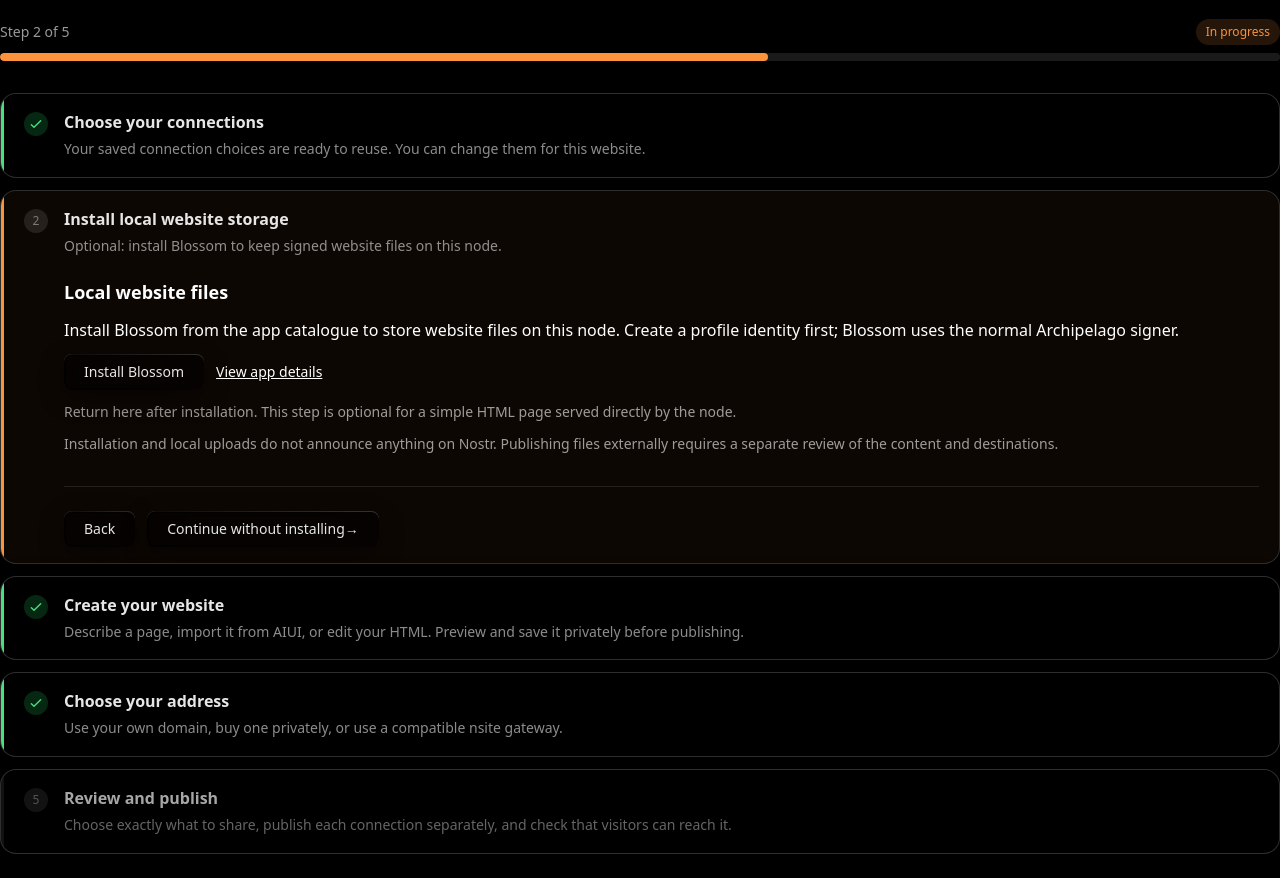
Test case: publishing setup › checks public HTTPS only on request and clears verification when the domain changes
(page scrolled)
Step 1. Click the button that starts with "Choose your address" → (147, 701), box [24,689,1259,740]
(page scrolled)
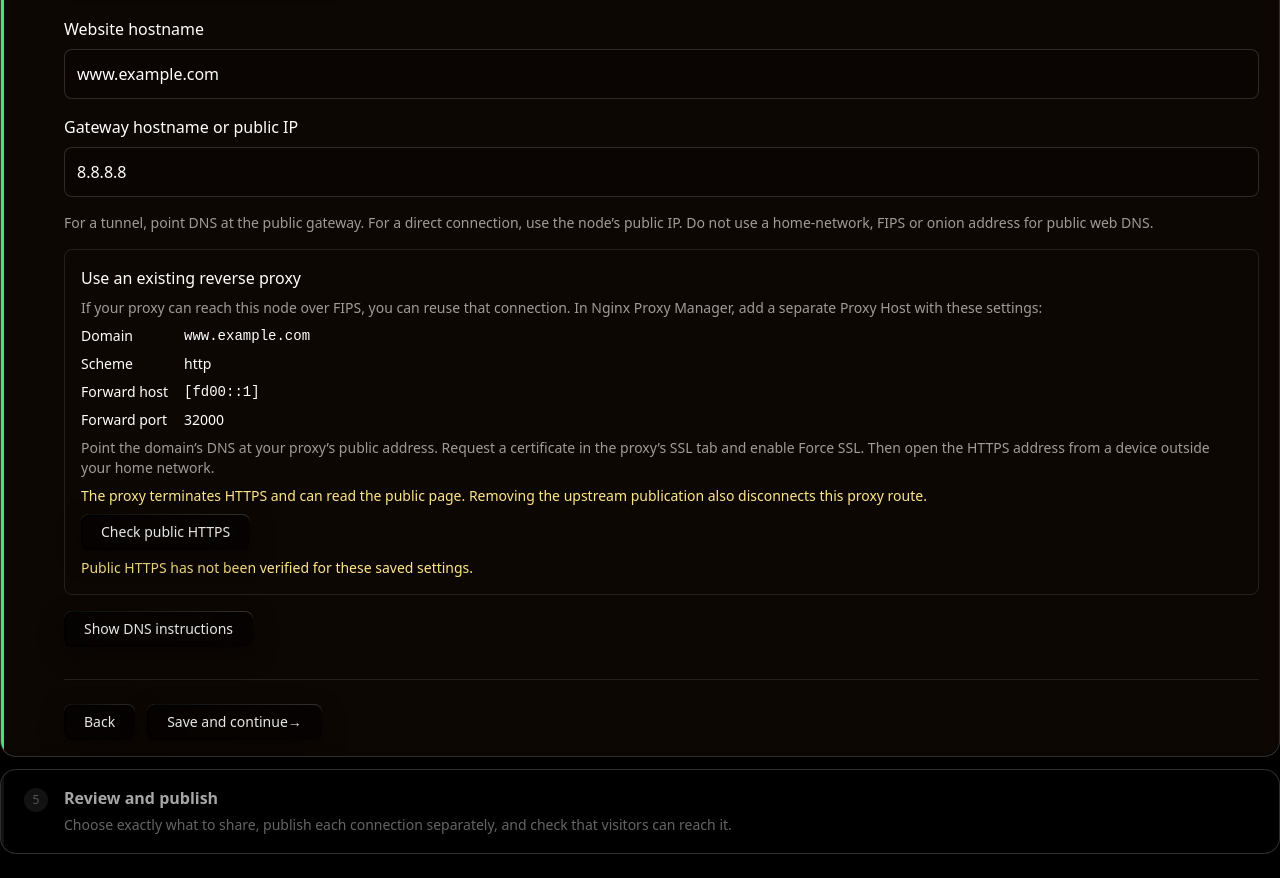
Step 2. Click the button "Check public HTTPS" → (166, 532), box [81,514,250,550]
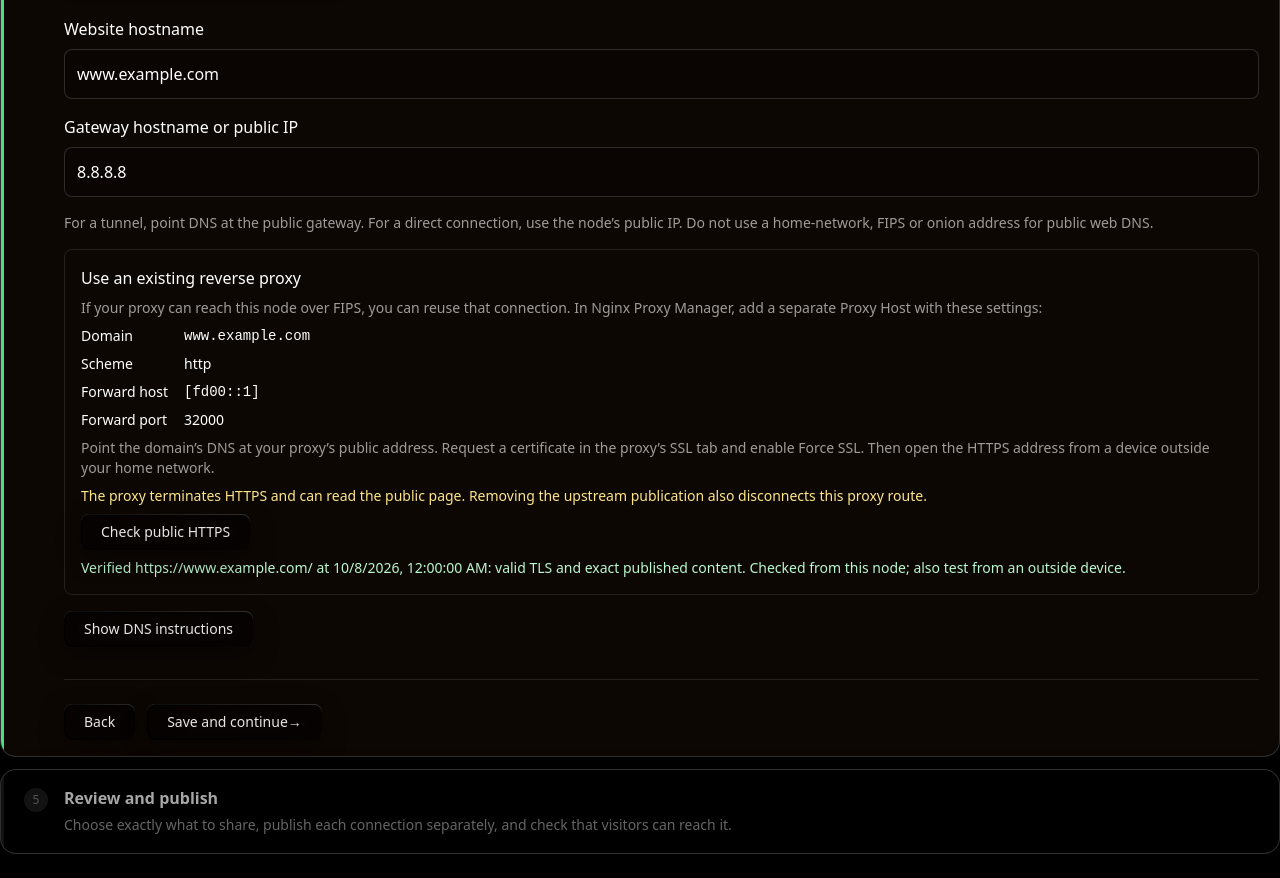
Expected: the text "valid TLS and exact published content" is shown, [81,558,1126,577]
Step 3. Replace the text in the field with placeholder "www.yourdomain.com" with "other.example.com" → (662, 74), box [64,49,1259,99]
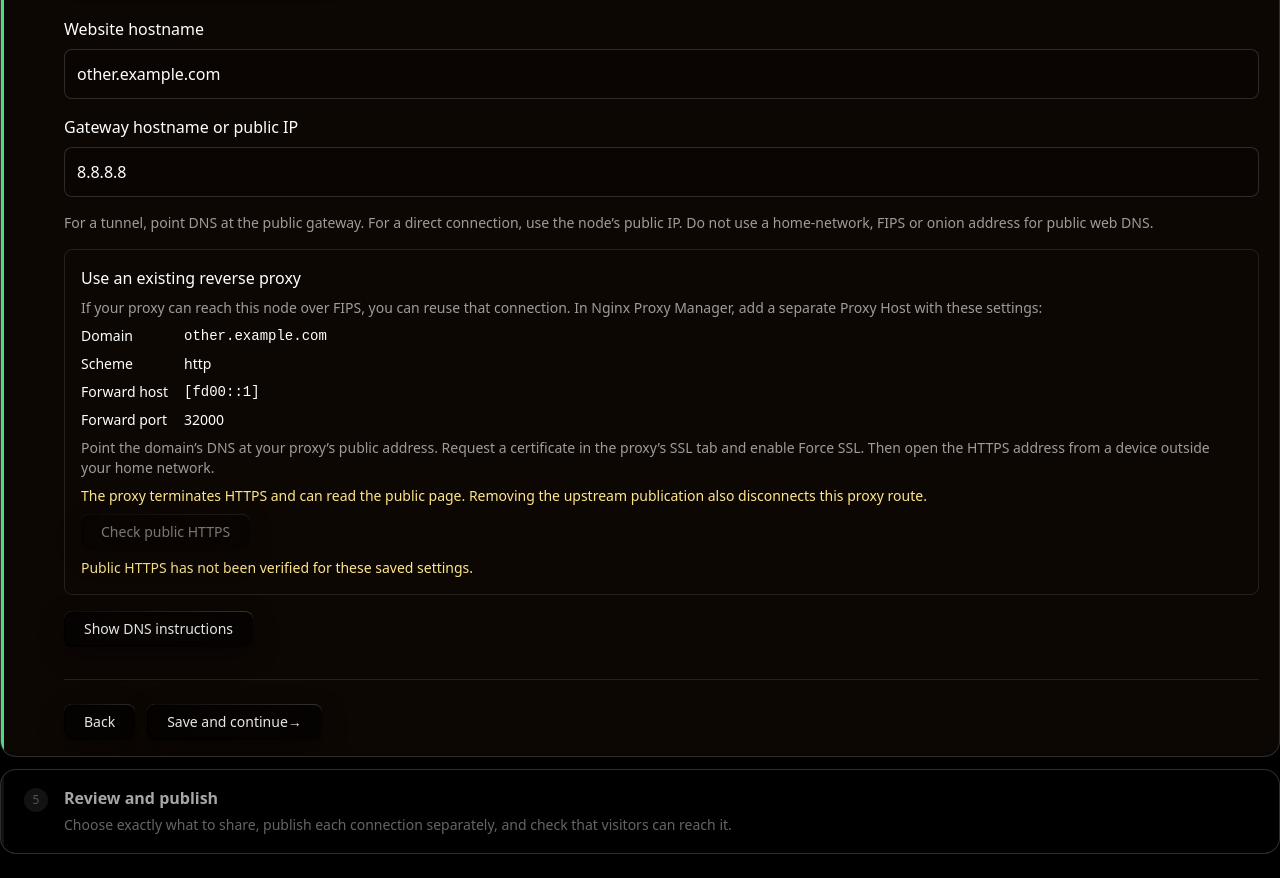
Expected: the text "valid TLS and exact published content" is gone
